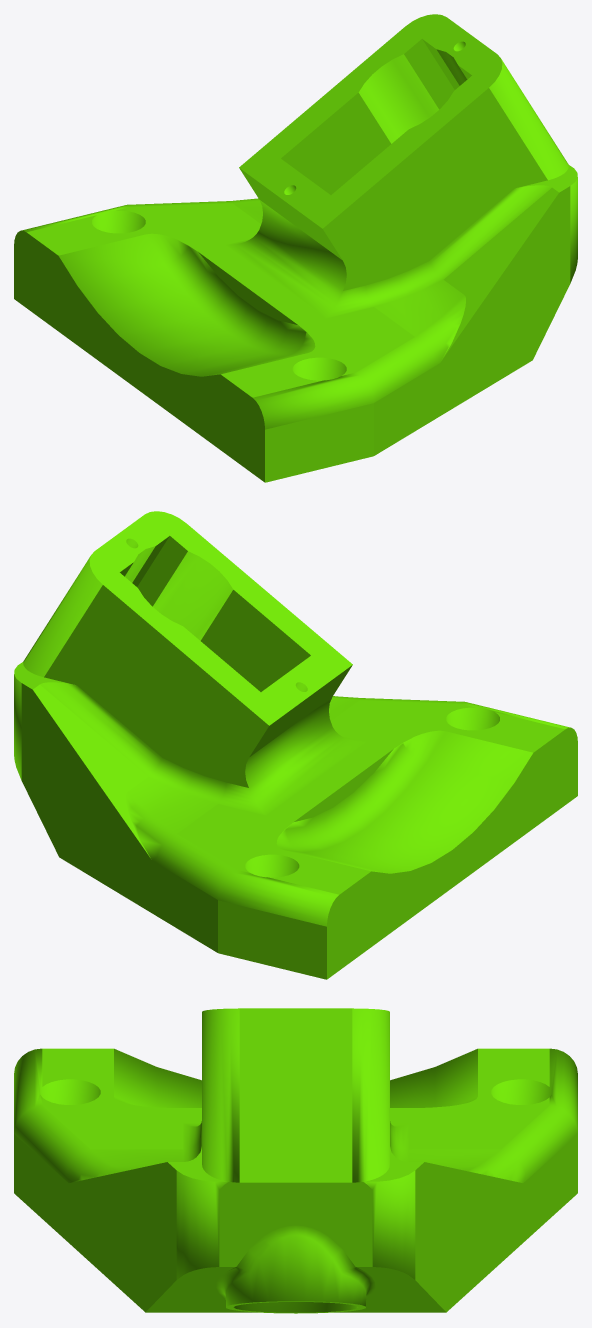
Rendered from front_chassic.dae.
3 views of the same model, one above another, from view 1: azimuth 30°, elevation 25°; view 2: azimuth 150°, elevation 25°; view 3: azimuth 270°, elevation 25° (orthographic). The views are drawn at different scales.
Visible parts, largest first — view 1: front chassis v2; view 2: front chassis v2; view 3: front chassis v2.
Boxes of the visible parts, x1,y1,x2,y2 form: front chassis v2: (14, 14, 577, 482); front chassis v2: (14, 511, 577, 979); front chassis v2: (14, 1008, 577, 1313).
Bounding box in the file's own units: 0.0587 × 0.06 × 0.0361.
